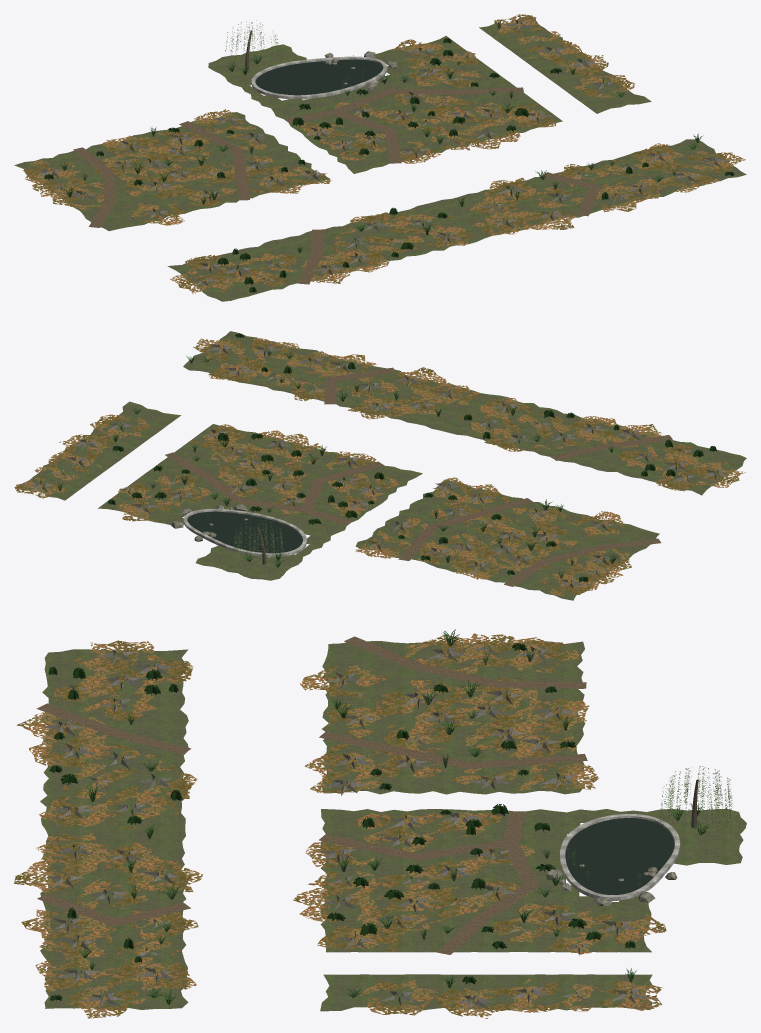
File: campus_blackforest.glb
The picture shows the model from 3 angles, top to bottom: view 1: azimuth 30°, elevation 25°; view 2: azimuth 150°, elevation 25°; view 3: azimuth 270°, elevation 25°; orthographic projection. The views are drawn at different scales.
Parts seen in each view (by area): view 1: bf_floor, bf_litter, bf_roots, bf_paths, bf_pond_water, bf_shrubs, bf_ferns, bf_pond_rim; view 2: bf_floor, bf_litter, bf_roots, bf_paths, bf_pond_water, bf_shrubs, bf_ferns, bf_pond_rim, bf_willow_leaves; view 3: bf_floor, bf_litter, bf_roots, bf_paths, bf_pond_water, bf_shrubs, bf_ferns, bf_pond_rim, bf_willow_leaves, bf_rocks.
Boxes of the visible parts, bbox=[...] form: bf_floor: bbox=[14, 15, 746, 301]; bf_litter: bbox=[23, 14, 745, 293]; bf_roots: bbox=[37, 19, 728, 286]; bf_paths: bbox=[73, 87, 600, 284]; bf_pond_water: bbox=[255, 59, 383, 95]; bf_shrubs: bbox=[44, 38, 734, 292]; bf_ferns: bbox=[60, 19, 703, 253]; bf_pond_rim: bbox=[251, 56, 387, 99]; bf_floor: bbox=[14, 331, 746, 600]; bf_litter: bbox=[15, 338, 745, 595]; bf_roots: bbox=[28, 343, 726, 588]; bf_paths: bbox=[165, 367, 672, 586]; bf_pond_water: bbox=[187, 511, 302, 553]; bf_shrubs: bbox=[108, 333, 716, 582]; bf_ferns: bbox=[57, 350, 620, 578]; bf_pond_rim: bbox=[183, 509, 306, 557]; bf_willow_leaves: bbox=[233, 517, 283, 568]; bf_floor: bbox=[40, 641, 746, 1011]; bf_litter: bbox=[14, 633, 666, 1018]; bf_roots: bbox=[43, 645, 651, 1009]; bf_paths: bbox=[36, 636, 587, 954]; bf_pond_water: bbox=[565, 818, 674, 894]; bf_shrubs: bbox=[48, 643, 635, 1001]; bf_ferns: bbox=[78, 629, 713, 1004]; bf_pond_rim: bbox=[560, 814, 680, 900]; bf_willow_leaves: bbox=[660, 766, 733, 836]; bf_rocks: bbox=[546, 864, 677, 906].
Bounding box in the file's own units: 67.69 × 5.28 × 54.39.
Materials: 12 (11 with a texture image).
